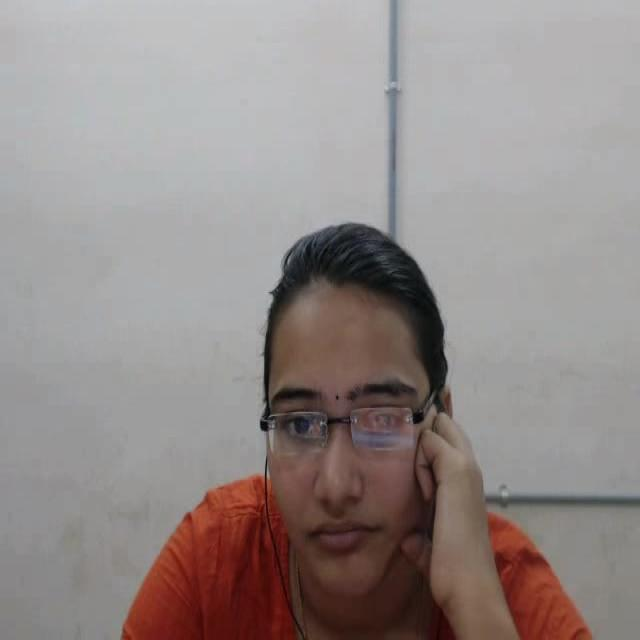Bored: (214, 210, 526, 640)
